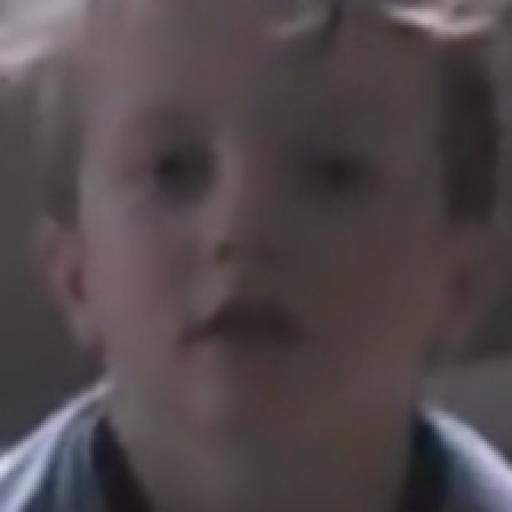Autism: (58, 19, 476, 453)
